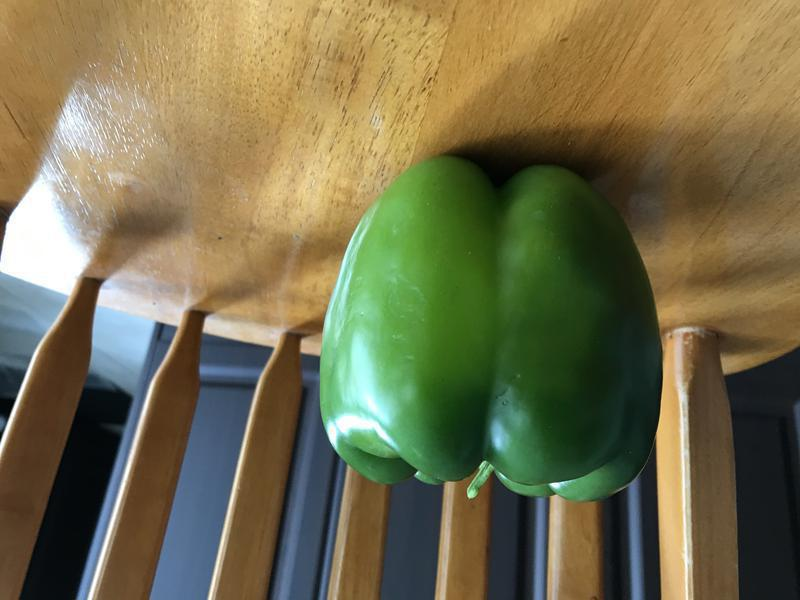green_pepper: (316, 138, 672, 529)
